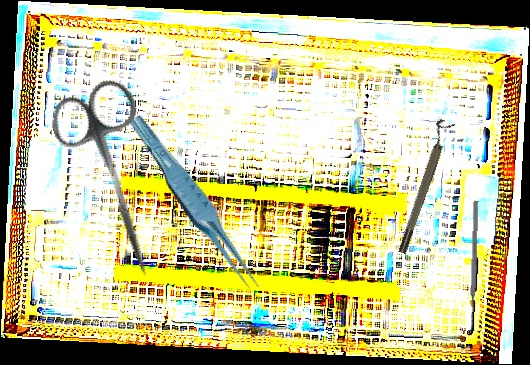Fixation Ring: (390, 118, 456, 255)
Hook Surgical: (469, 200, 479, 319)
Iris Scissors: (43, 73, 191, 290)
Tissue Forceps: (126, 106, 263, 302)
